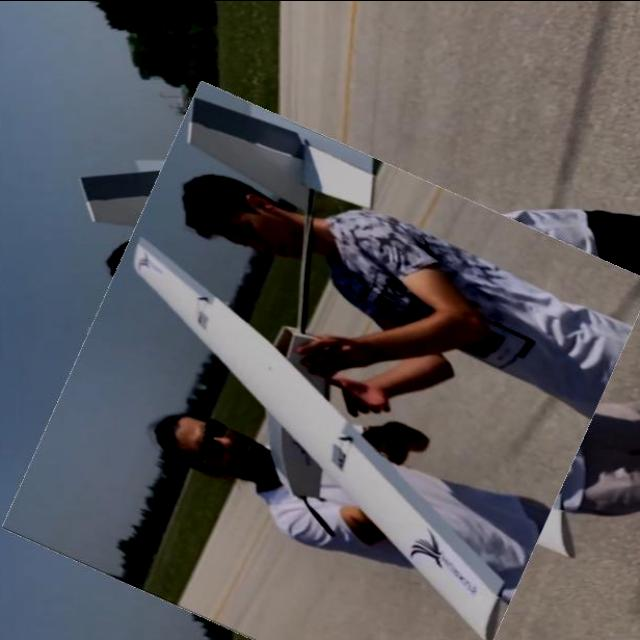plane: (2, 79, 640, 640)
